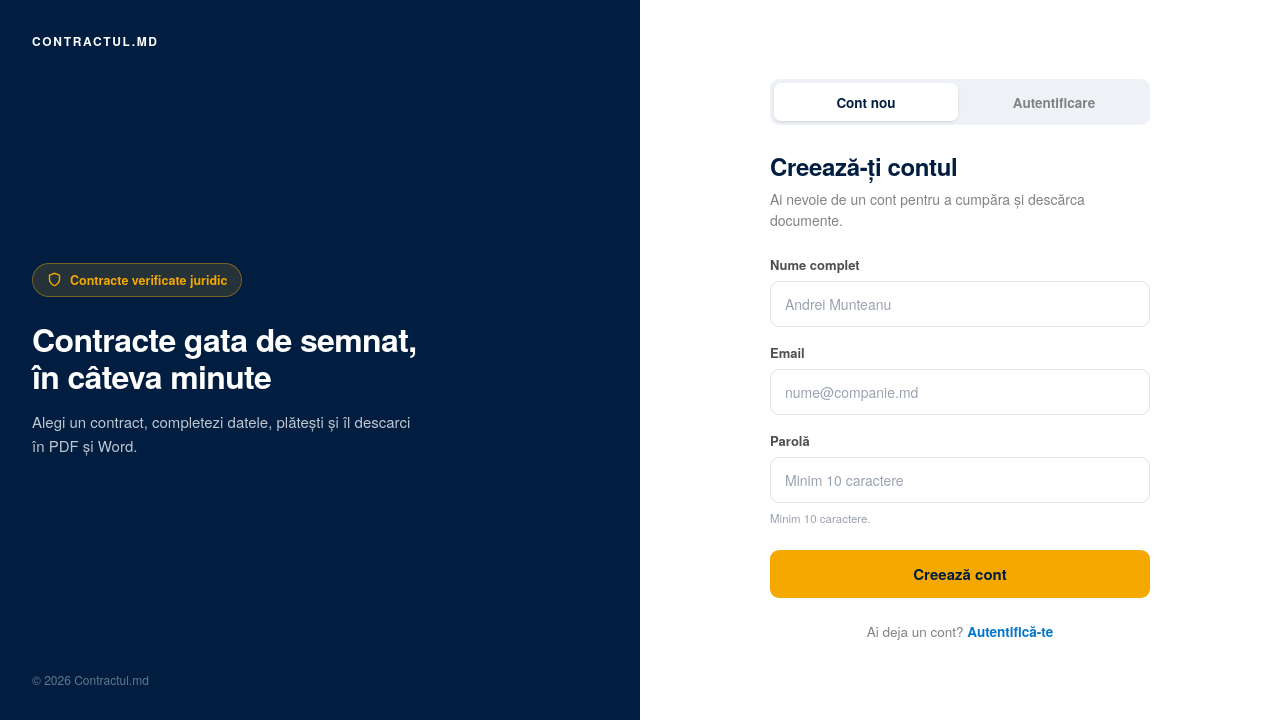
Test case: AuthPage › switches to login and drops the name field
Click the tab "Autentificare".
click(1054, 102)  # box [962, 83, 1146, 121]
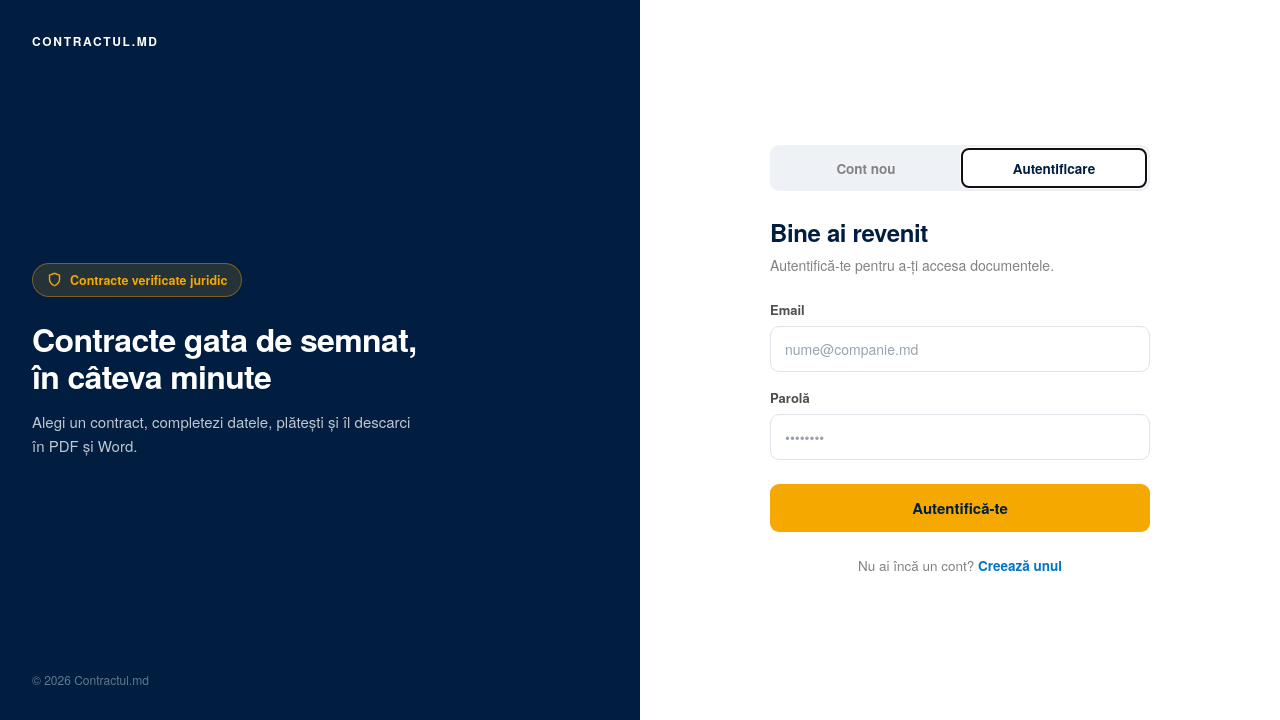
expect the heading "Bine ai revenit" is shown: met, box [770, 215, 928, 249]
expect the label labelled "Nume complet" is gone: met
